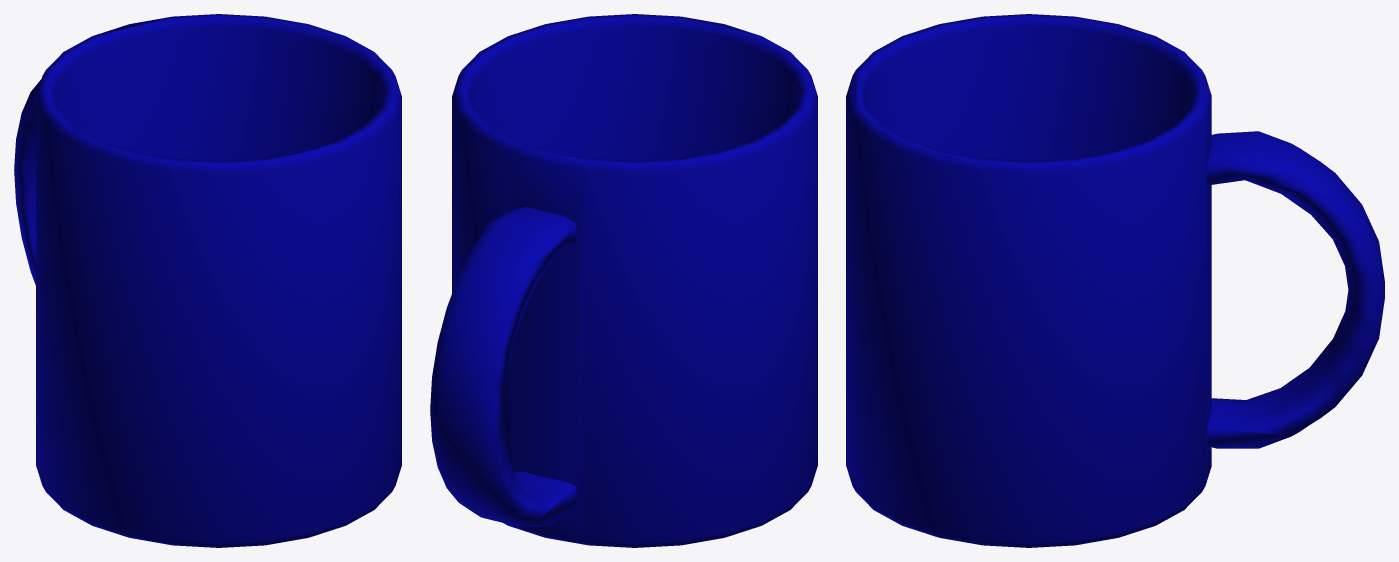
3 renders of one model, left to right at view 1: azimuth 30°, elevation 25°; view 2: azimuth 150°, elevation 25°; view 3: azimuth 270°, elevation 25°, orthographic.
Visible parts, largest first — view 1: mesh1_mesh1-geometry_2; view 2: mesh1_mesh1-geometry_2; view 3: mesh1_mesh1-geometry_2.
Boxes of the visible parts, <box> form: mesh1_mesh1-geometry_2: <box>14,14,401,547</box>; mesh1_mesh1-geometry_2: <box>430,14,817,547</box>; mesh1_mesh1-geometry_2: <box>846,14,1384,547</box>.
Bounding box in the file's own units: 0.4713 × 0.5438 × 0.6943.
